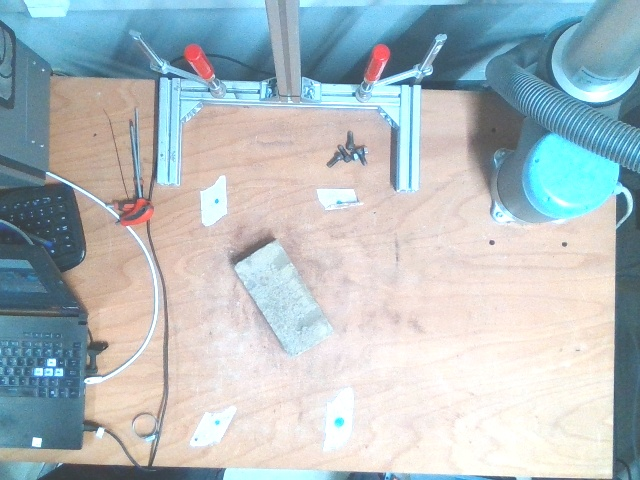brick: (234, 242, 329, 356)
